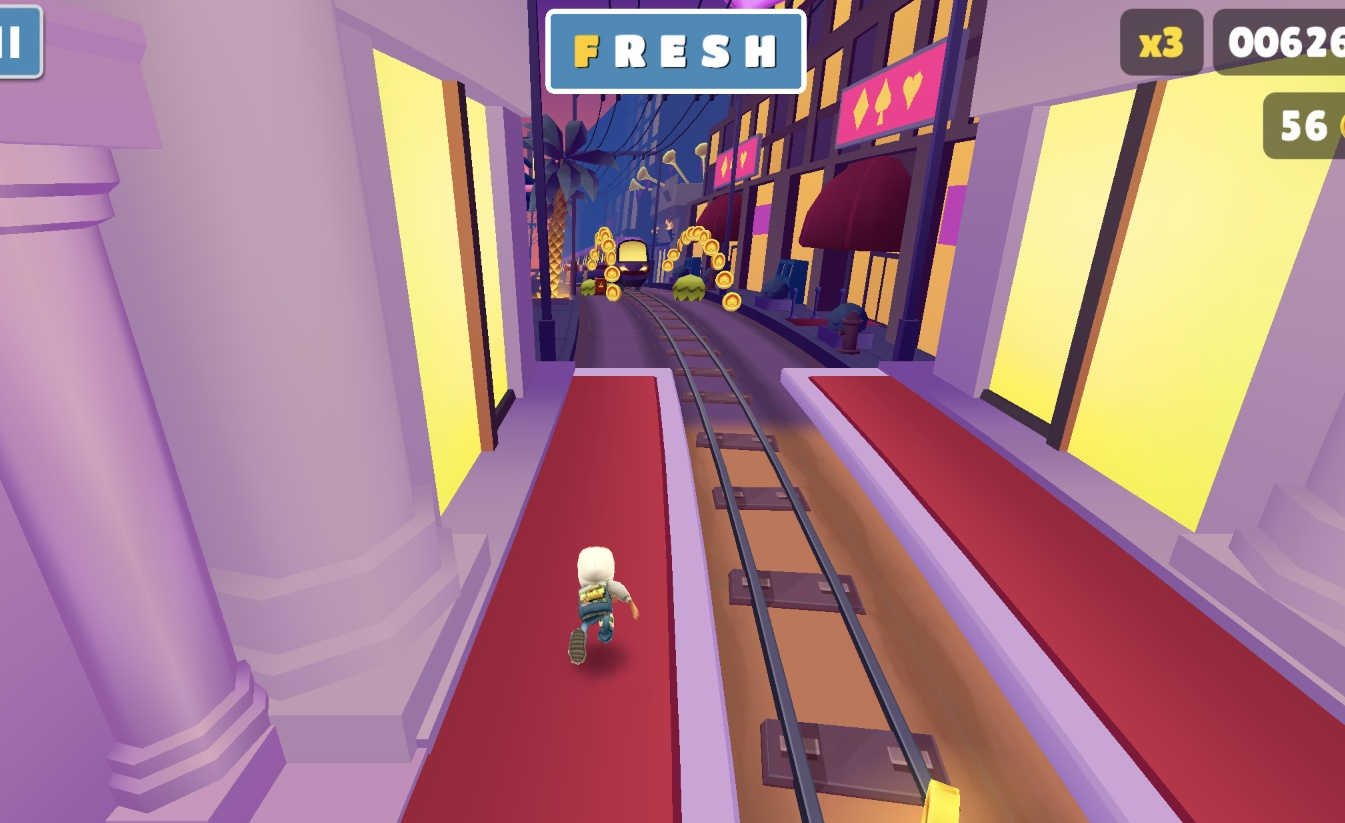bush: (672, 273, 707, 302), (561, 279, 574, 295), (586, 280, 598, 295)
ground_barrier: (585, 255, 605, 275)
small_obstacle: (574, 277, 586, 292)
train: (609, 237, 652, 287)
